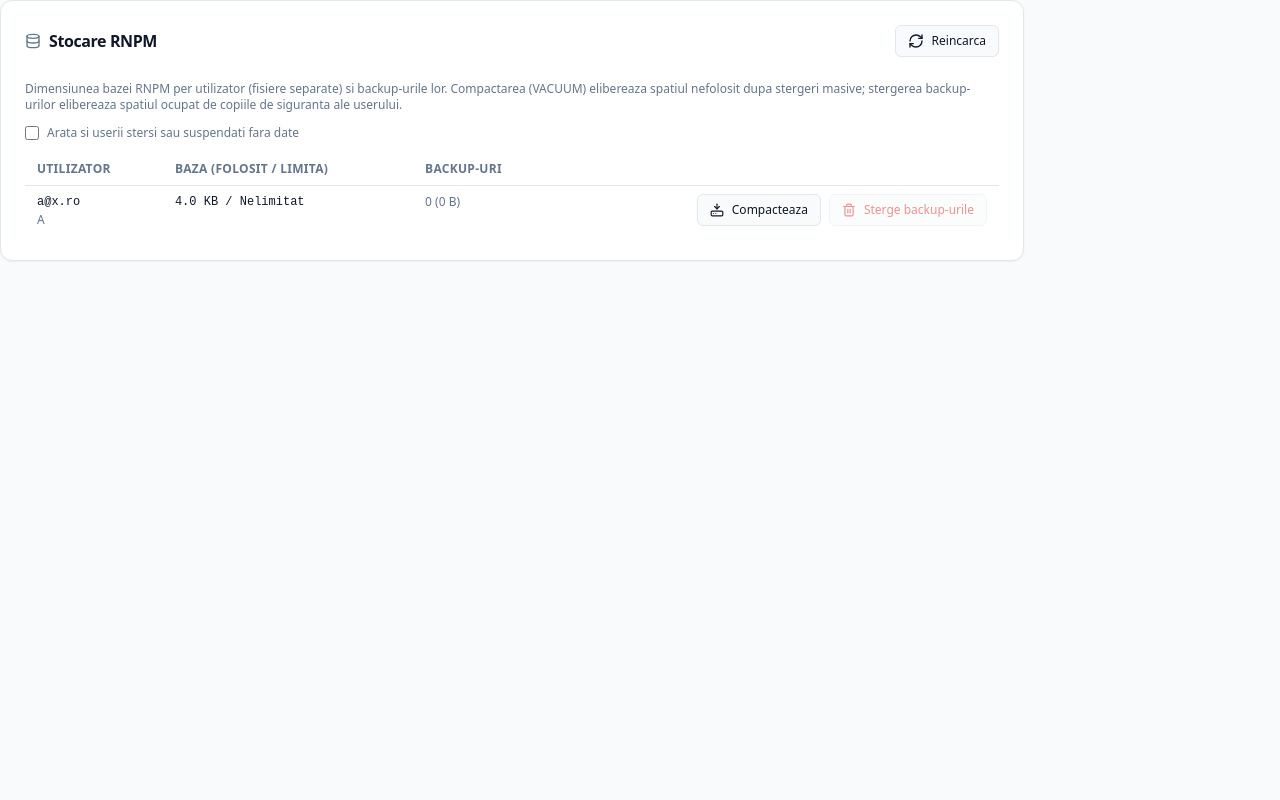
Scenario: AdminRnpmStorage (embedded) › 409 la compactare (operatie RNPM in curs la userul tinta) se afiseaza ca mesaj prietenos
The width and height of the screenshot is (1280, 800).
Click the button "Compacteaza". click: (759, 210)
box: [697,194,821,226]
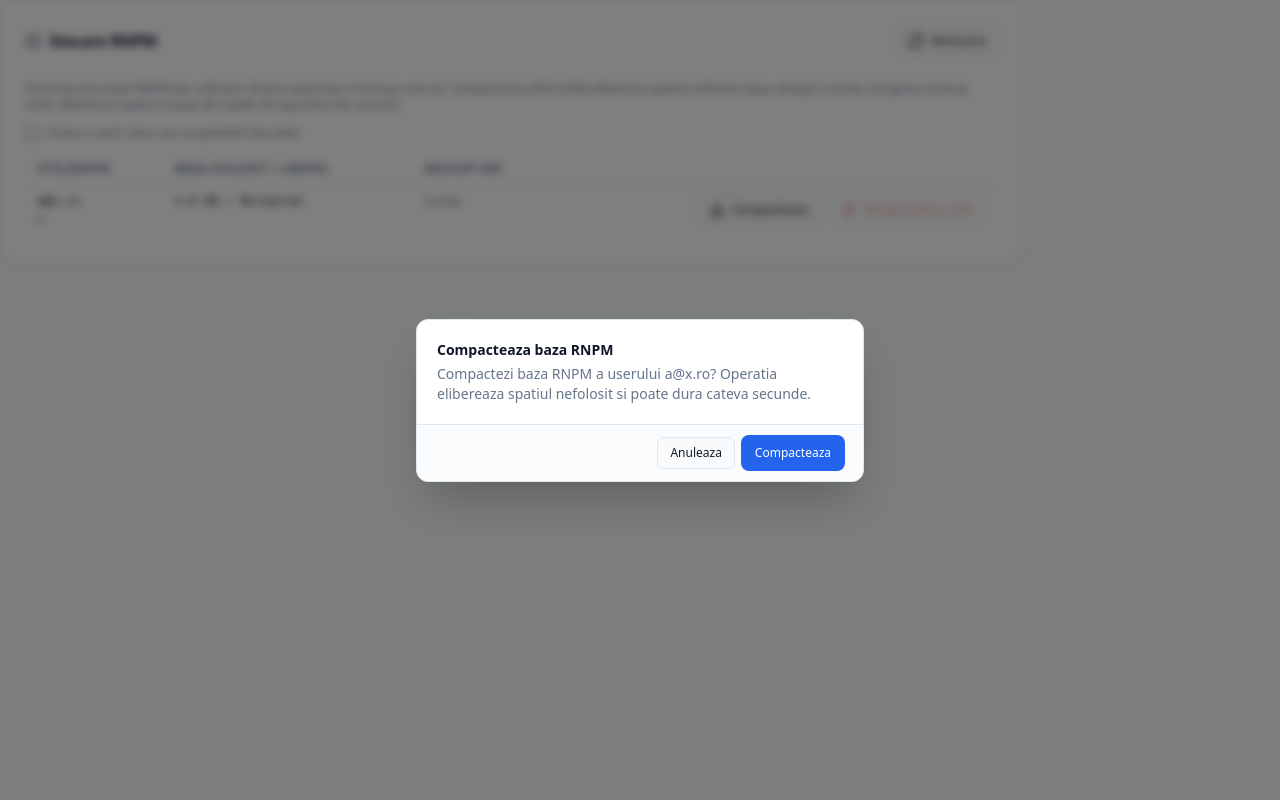
Click the button "Compacteaza". click: (793, 452)
box: [743,436,843,468]
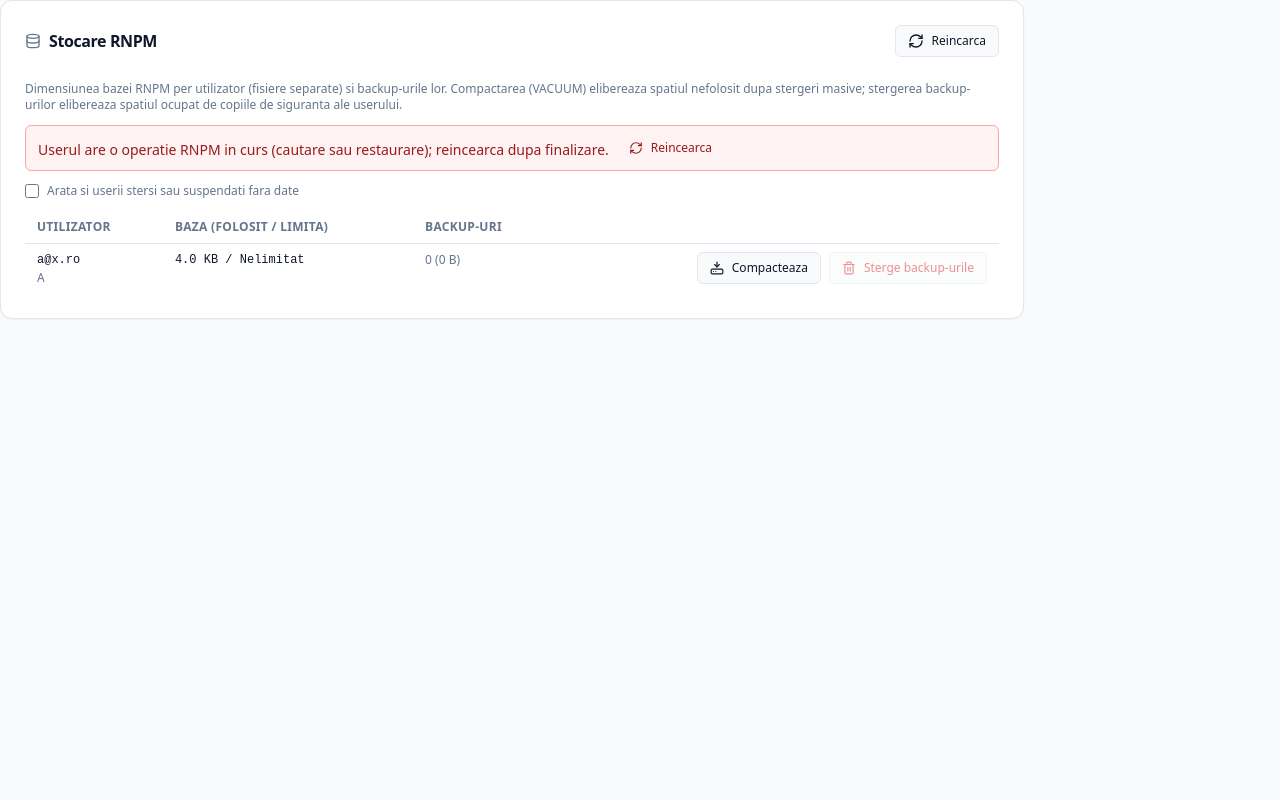
Result: the text "operatie RNPM in curs" is shown at [38,140,609,159]
